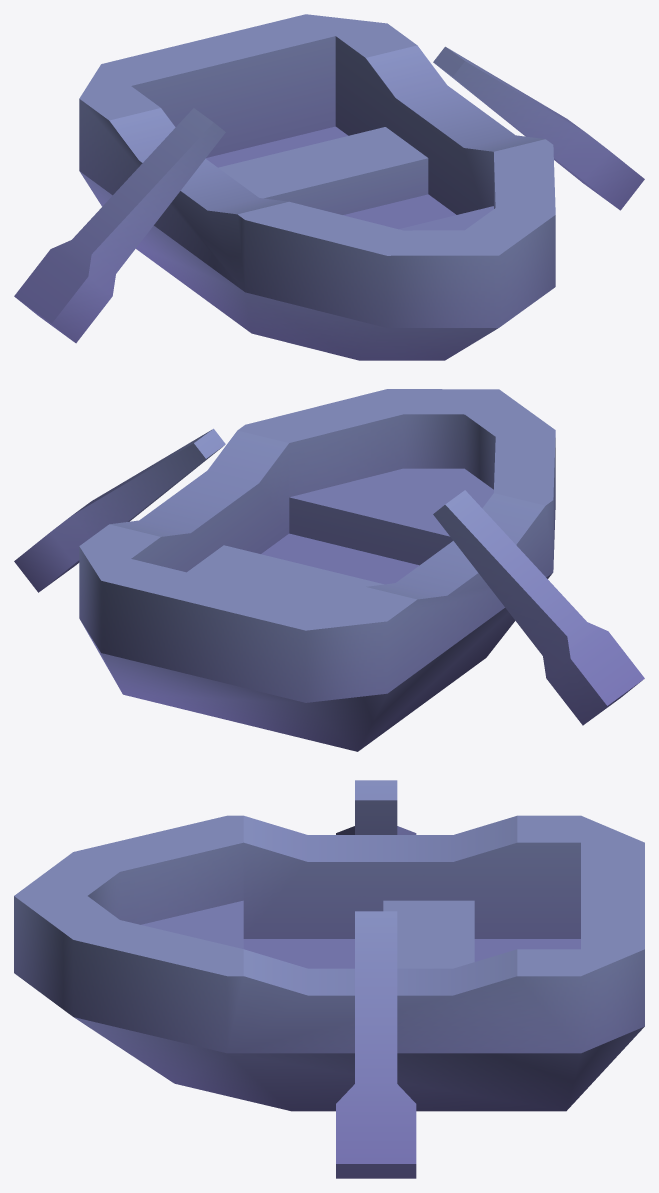
Rendered from boat-row-small.fbx.
3 views of the same model, one above another, from view 1: azimuth 30°, elevation 25°; view 2: azimuth 150°, elevation 25°; view 3: azimuth 270°, elevation 25° (orthographic). The views are drawn at different scales.
Visible parts, largest first — view 1: boat-row-small, paddles; view 2: boat-row-small, paddles; view 3: boat-row-small, paddles.
Boxes of the visible parts, box(x1,y1,x2,y2) form: boat-row-small: box(79, 14, 555, 360); paddles: box(14, 46, 644, 343); boat-row-small: box(79, 389, 555, 751); paddles: box(14, 428, 644, 725); boat-row-small: box(14, 815, 644, 1111); paddles: box(336, 780, 416, 1178).
Size of the model in its own units: 275 by 84.77 by 237.
